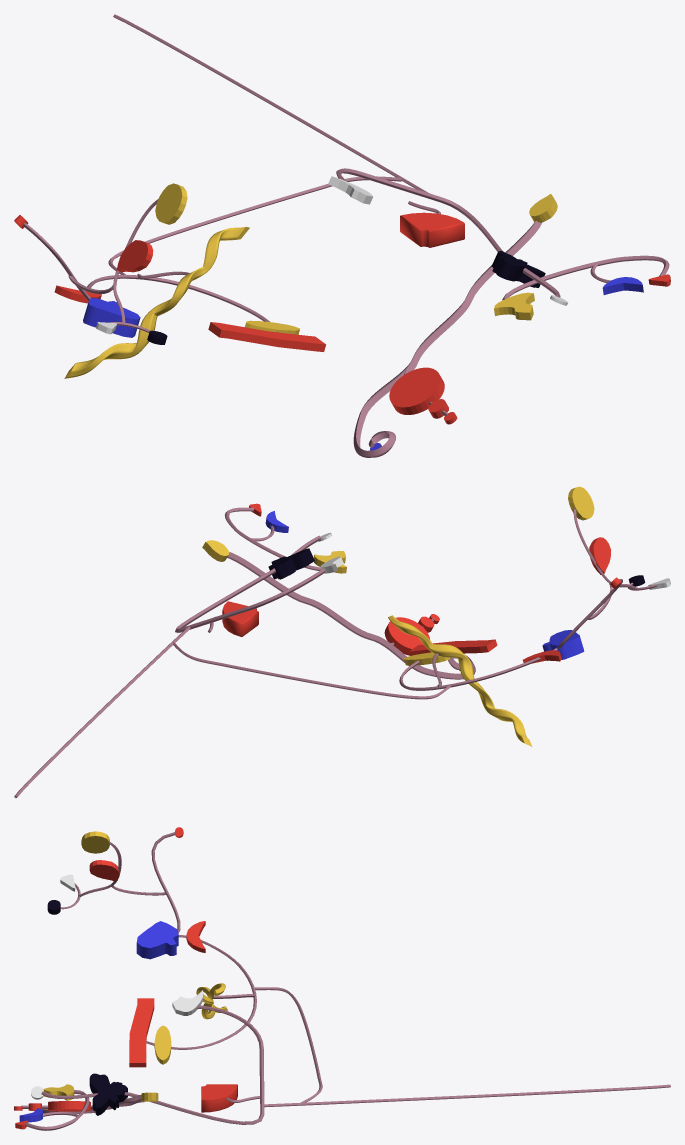
Rendered from Calder.fbx.
The picture shows the model from 3 angles, top to bottom: view 1: azimuth 30°, elevation 25°; view 2: azimuth 150°, elevation 25°; view 3: azimuth 270°, elevation 25°; orthographic projection. The views are drawn at different scales.
Parts seen in each view (by area): view 1: Curve04, curve08, curve05, Noodle, Curve06, curve07, Base, curve09; view 2: Curve04, curve08, curve05, Noodle, Base, curve07, Curve06, curve09; view 3: curve08, curve05, Base, curve07, Curve06, Curve04, curve09, Noodle, curve02, curve01.
Part boxes in pixels (bbox=[...]): Curve04: bbox=[353, 194, 557, 457]; curve08: bbox=[54, 274, 326, 351]; curve05: bbox=[328, 168, 568, 305]; Noodle: bbox=[64, 227, 249, 378]; Curve06: bbox=[494, 255, 670, 320]; curve07: bbox=[68, 183, 187, 323]; Base: bbox=[108, 14, 428, 278]; curve09: bbox=[400, 201, 464, 247]; Curve04: bbox=[202, 540, 475, 679]; curve08: bbox=[399, 630, 584, 690]; curve05: bbox=[175, 532, 343, 632]; Noodle: bbox=[388, 615, 532, 746]; Base: bbox=[14, 626, 450, 797]; curve07: bbox=[568, 486, 638, 619]; Curve06: bbox=[225, 503, 346, 573]; curve09: bbox=[208, 601, 258, 636]; curve08: bbox=[129, 921, 256, 1067]; curve05: bbox=[31, 990, 264, 1124]; Base: bbox=[252, 987, 670, 1107]; curve07: bbox=[78, 831, 165, 896]; Curve06: bbox=[15, 1084, 89, 1130]; Curve04: bbox=[14, 1092, 158, 1113]; curve09: bbox=[201, 1084, 259, 1112]; Noodle: bbox=[196, 983, 255, 1019]; curve02: bbox=[151, 827, 183, 933]; curve01: bbox=[47, 874, 80, 914].
Bounding box in the file's own units: 5950 × 2912 × 7764.
